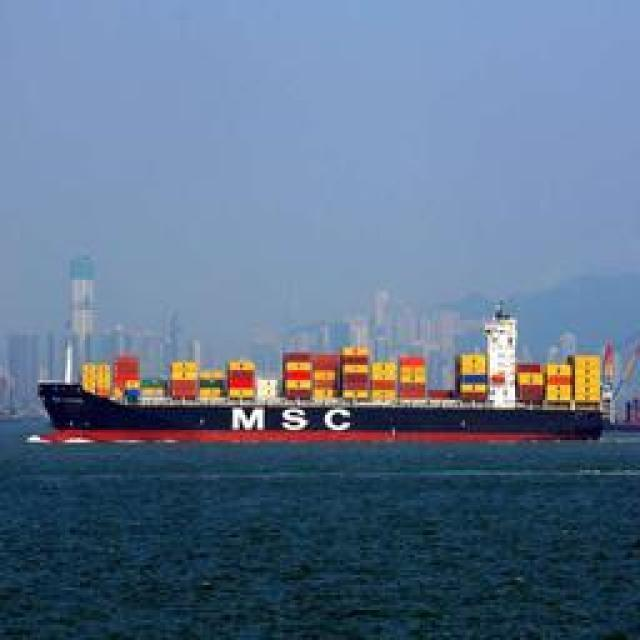ship2: (35, 301, 607, 446)
